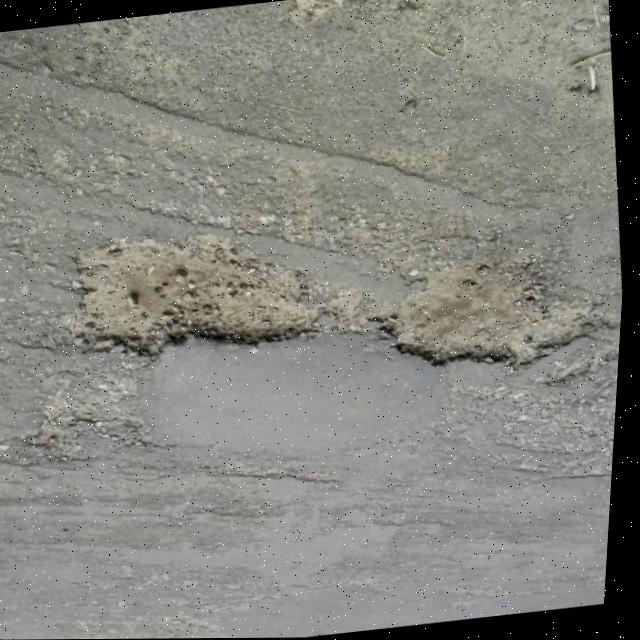Pothole: (59, 213, 353, 373), (366, 249, 613, 389)
